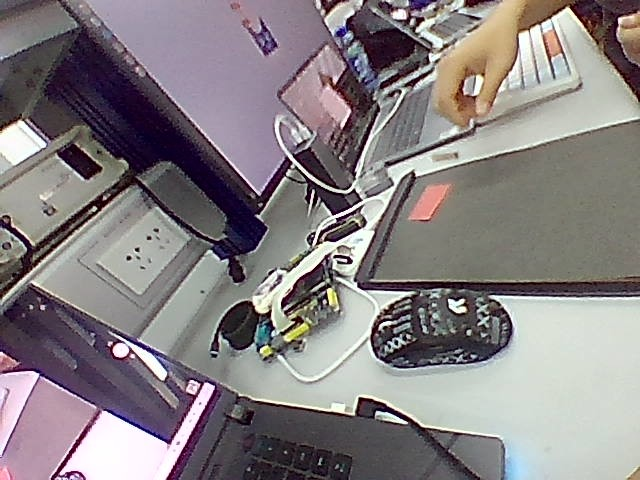card: (408, 184, 450, 220)
